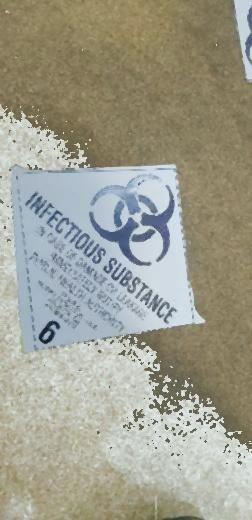infectious-substance: (14, 166, 199, 350)
